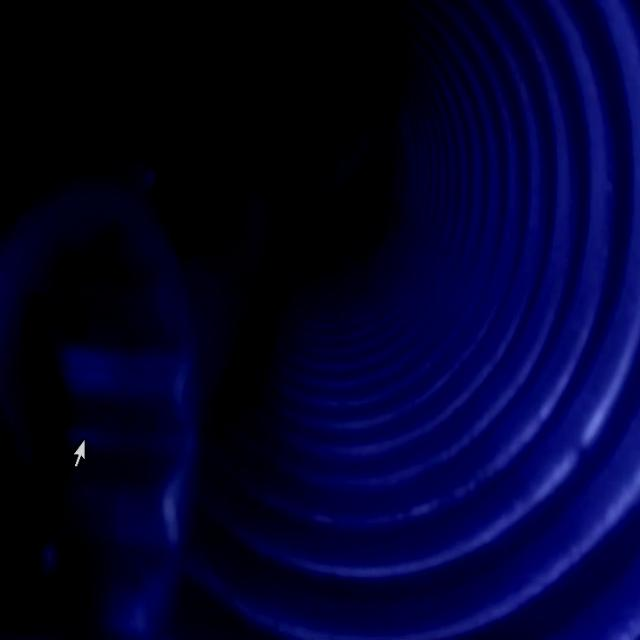metal piece: (0, 175, 212, 640)
